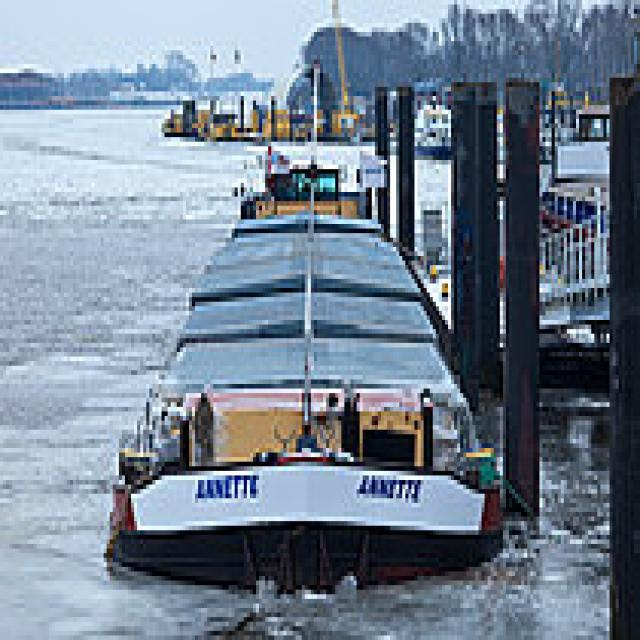Ship: (86, 161, 513, 596)
